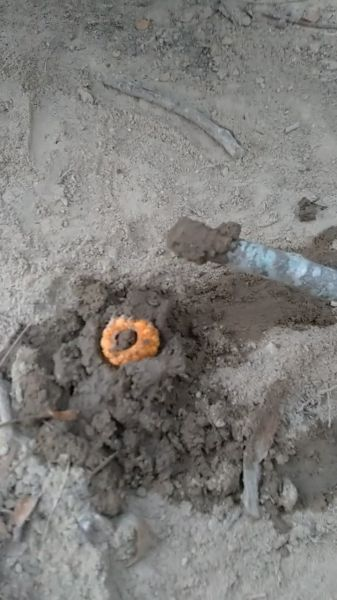eggs: (96, 312, 166, 364)
